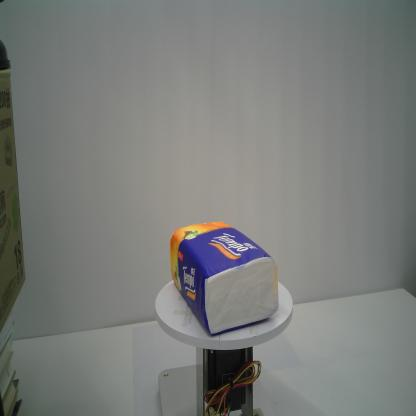Tissue: (168, 219, 279, 336)
